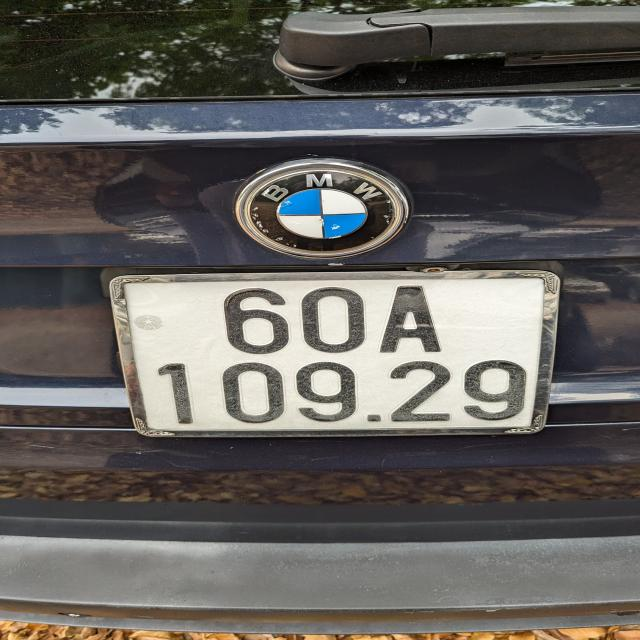License: (109, 268, 560, 438)
